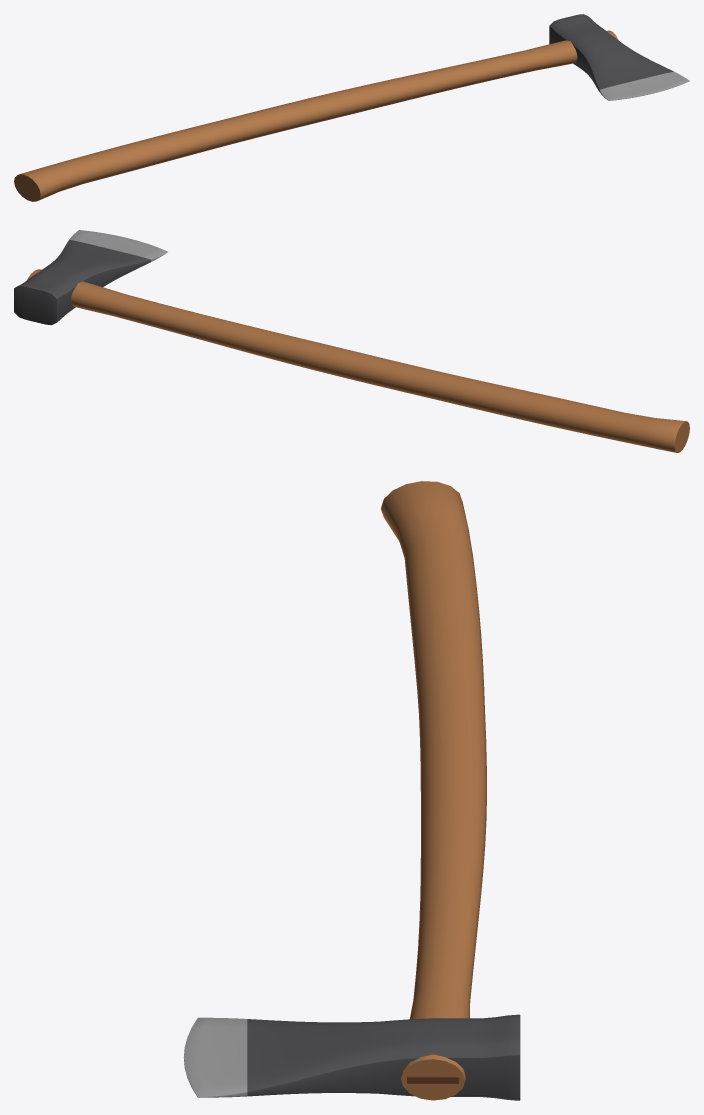
File: felling_axe.glb
3 views of the same model, one above another, from view 1: azimuth 30°, elevation 25°; view 2: azimuth 150°, elevation 25°; view 3: azimuth 270°, elevation 25° (orthographic). The views are drawn at different scales.
Visible parts, largest first — view 1: felling_axe; view 2: felling_axe; view 3: felling_axe.
Boxes of the visible parts, x1,y1,x2,y2 form: felling_axe: [14, 14, 689, 201]; felling_axe: [14, 230, 689, 452]; felling_axe: [183, 481, 520, 1100].
Size of the model in its own units: 0.8082 by 0.0384 by 0.193.
